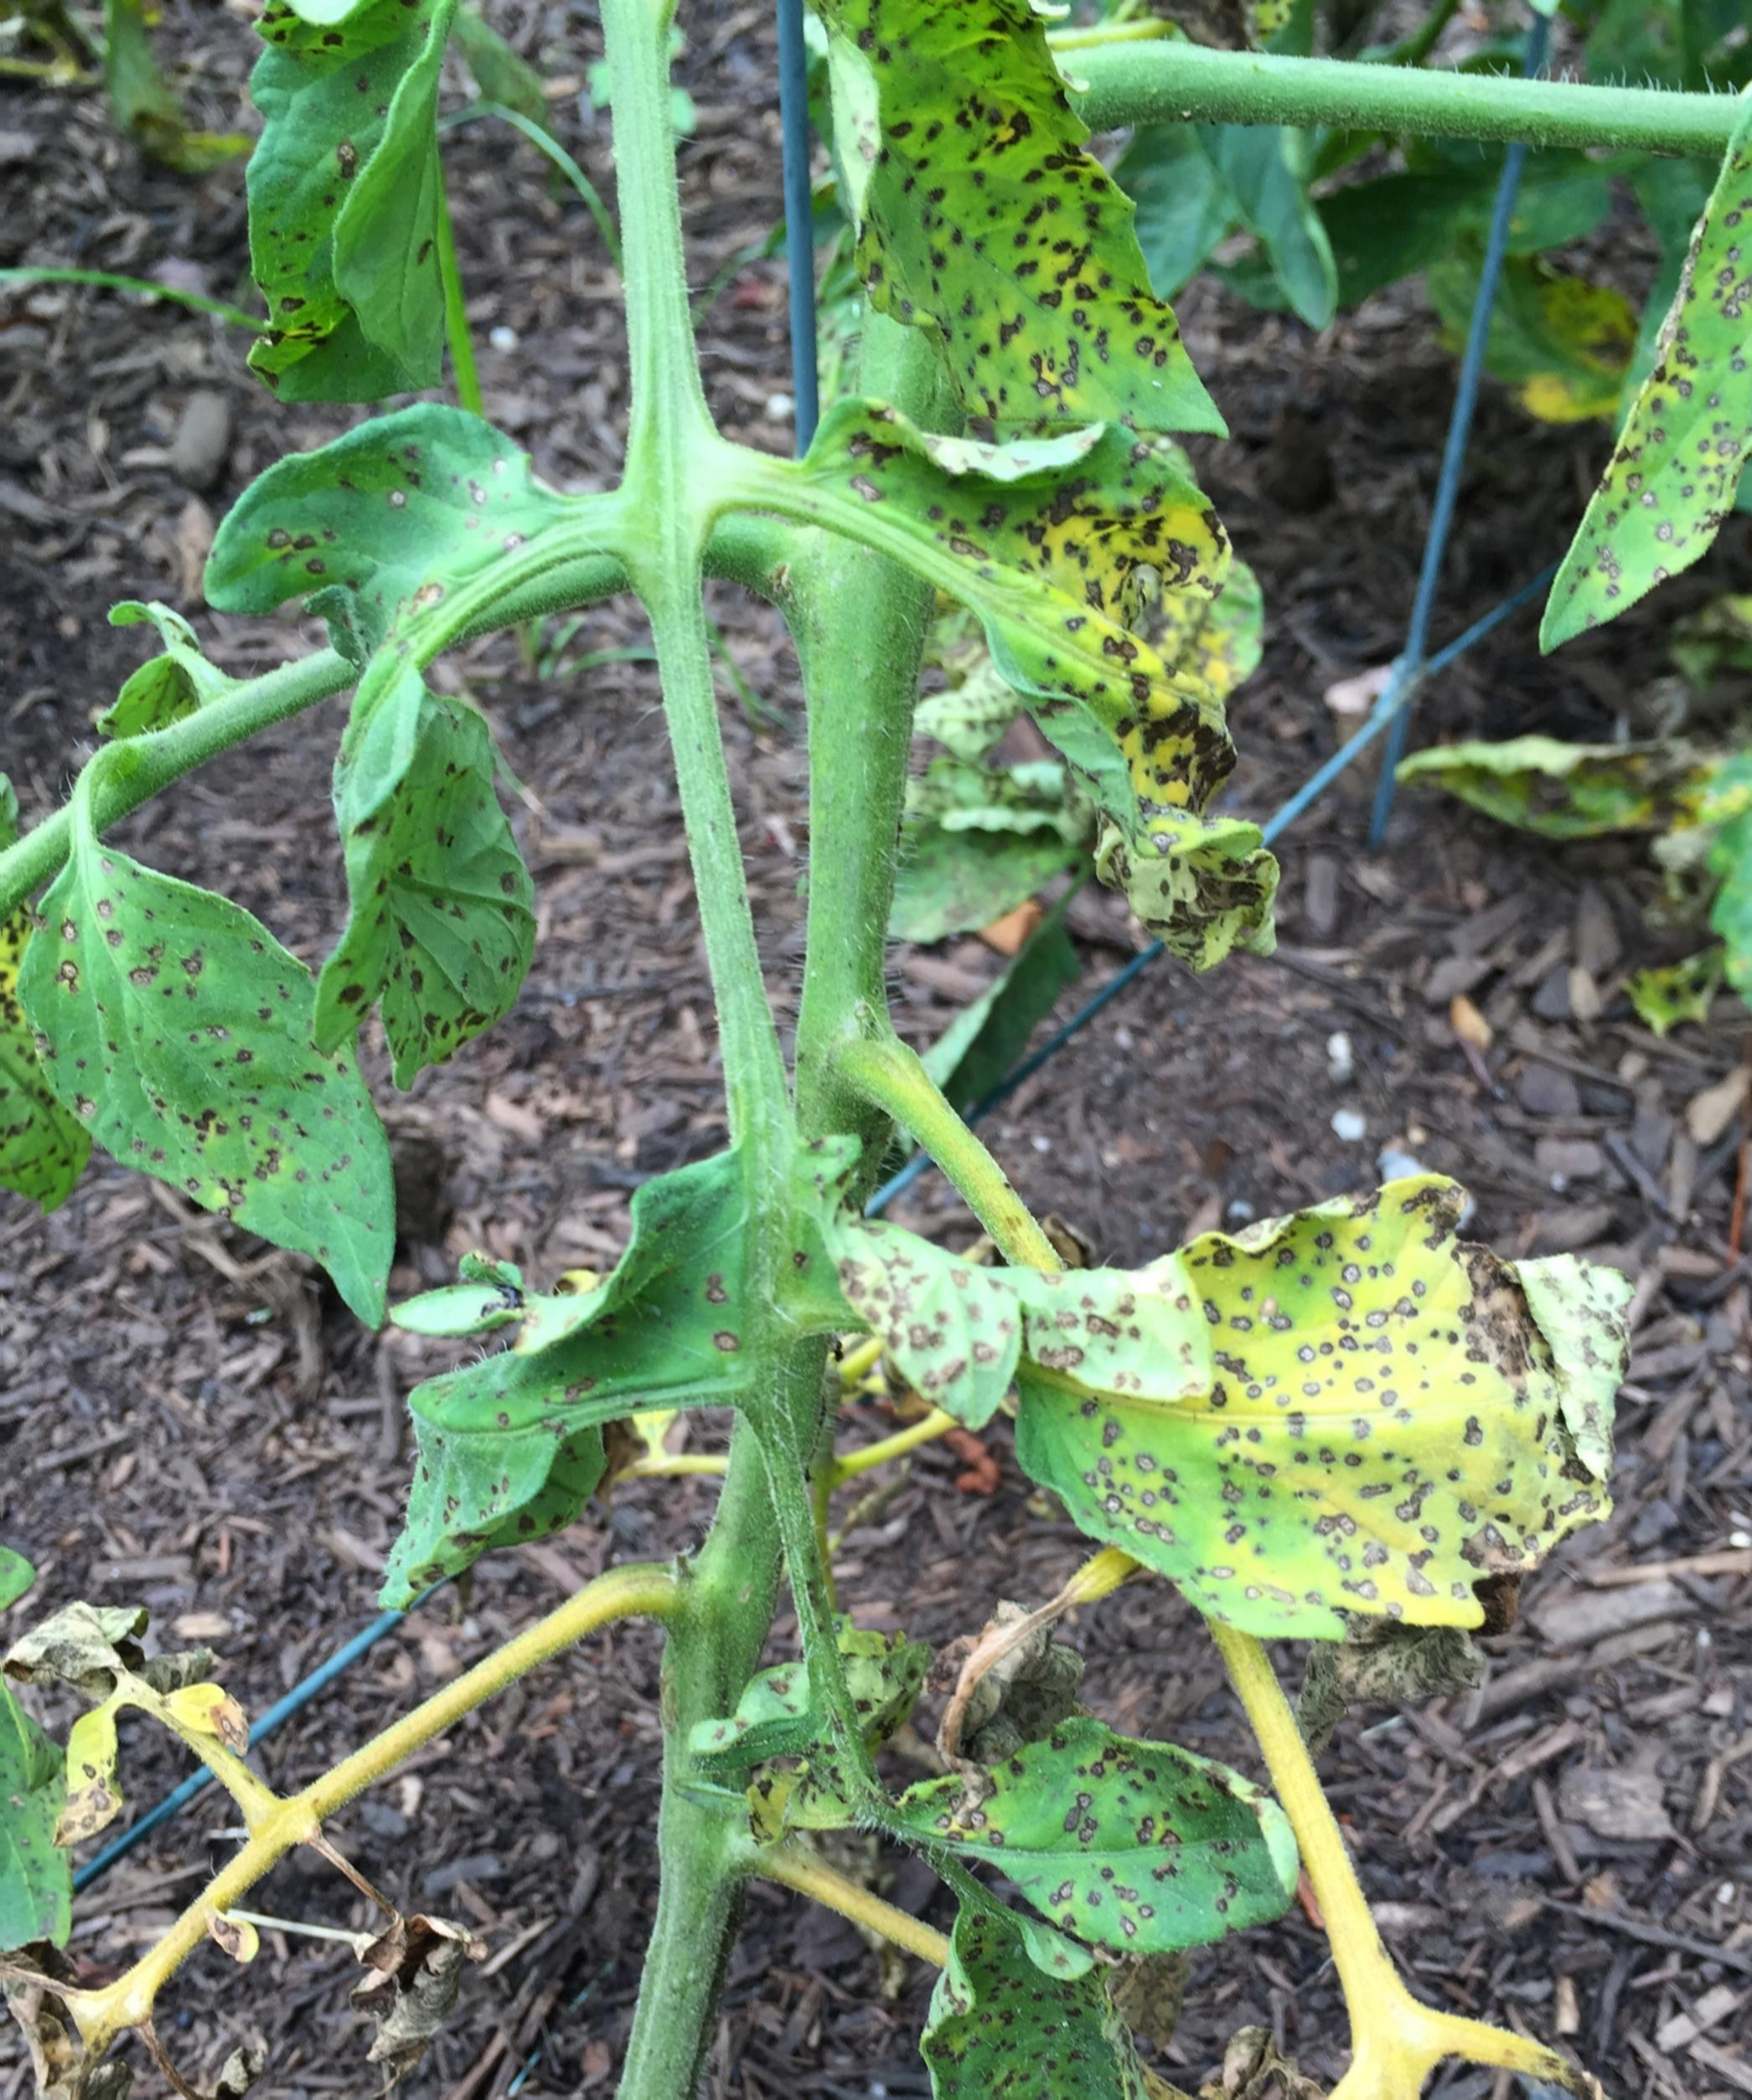Tomato Septoria leaf spot: (743, 1179, 1752, 1671), (775, 419, 1295, 980), (700, 0, 1248, 450), (0, 841, 435, 1355), (384, 1130, 778, 1629), (1530, 47, 1752, 649), (895, 1709, 1373, 1973), (290, 645, 564, 1085), (822, 1894, 1166, 2100)
